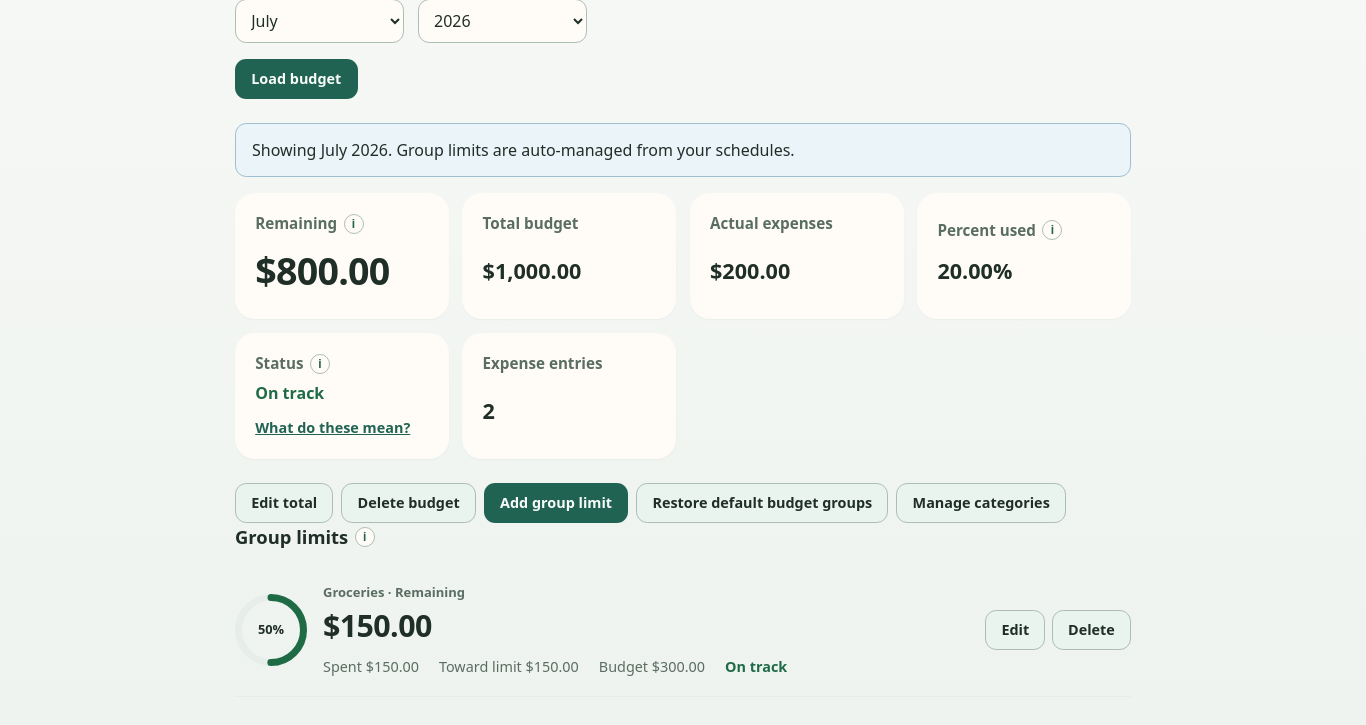
Test: BudgetsPage › deletes a budget after confirmation
(page scrolled)
Check: the text "$1,000.00" is shown, box [483,256,581,285]
Click the button "Delete budget": (409, 503) [341,483,476,523]
(page scrolled)
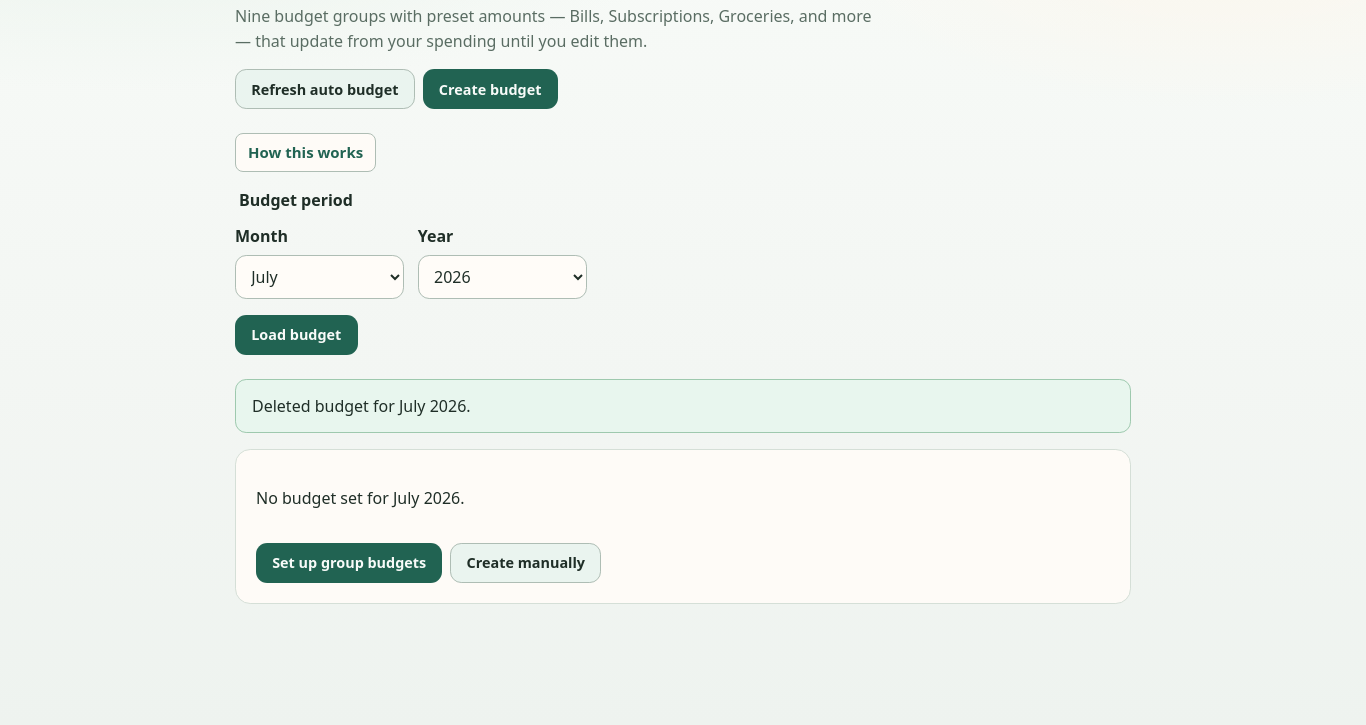
Check: the text "Deleted budget for July 2026." is shown, box [235,379,1131,433]
